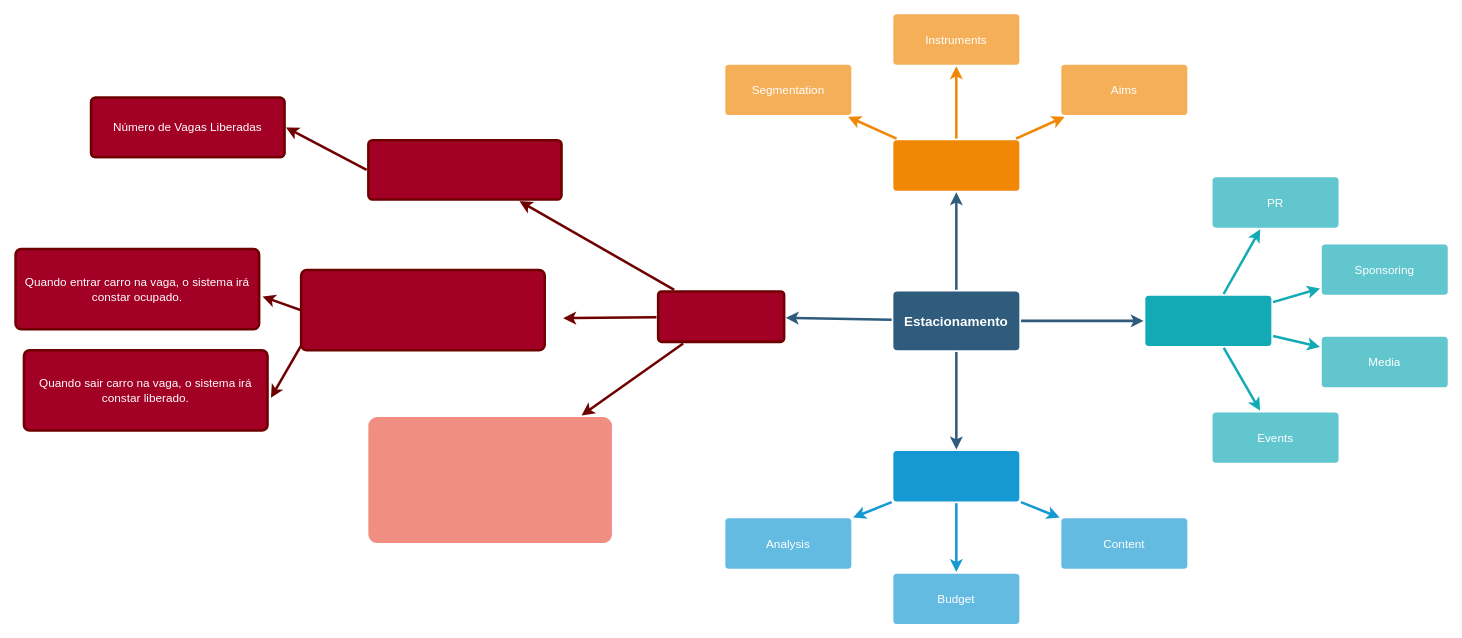
Some shapes in this 1462 by 638 pixel diagram are drawn without their labels. Here are the shapes that lost their labels. From the top down, the box of each, then its label:
(367, 139, 562, 200): SUPERLOTAÇÃO DO ESTACIONAMENTO
(893, 140, 1019, 190): Marketing
(299, 268, 546, 351): CONTROLAR O STATUS DE CADA VAGA.
(656, 290, 785, 343): Contabilizador de Vagas
(1145, 295, 1271, 346): Communication
(893, 451, 1019, 501): Organization
